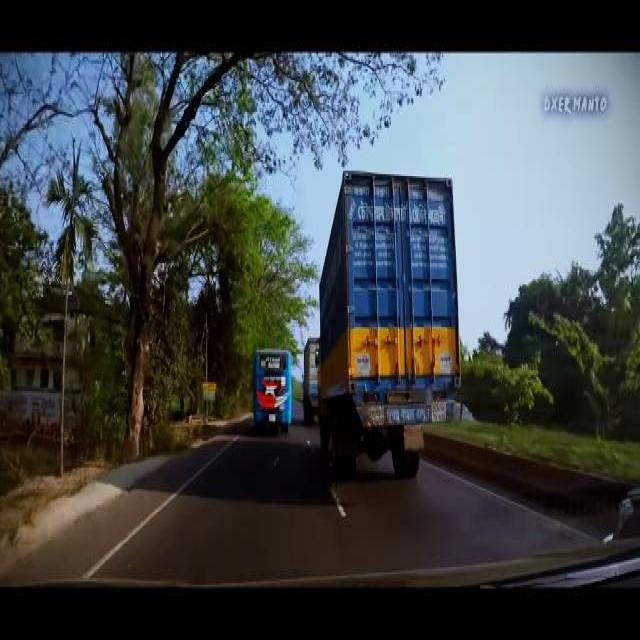bus: (250, 345, 292, 434)
truck: (314, 167, 462, 473), (300, 332, 318, 426)
